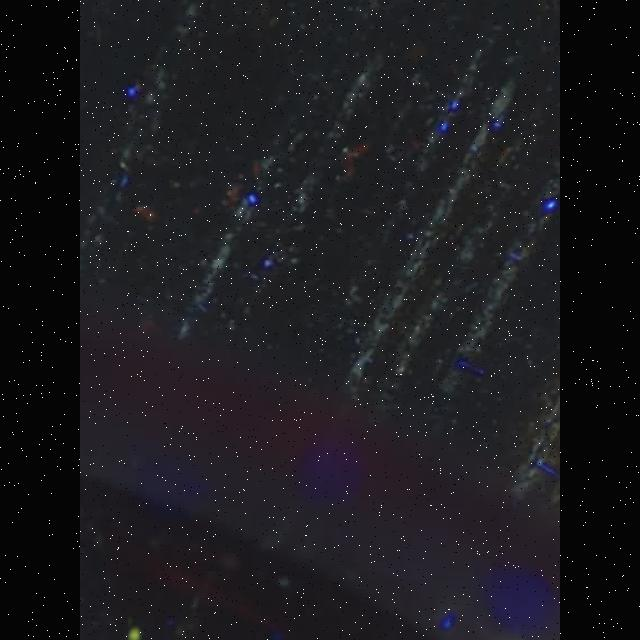microbeads: (126, 626, 140, 640)
